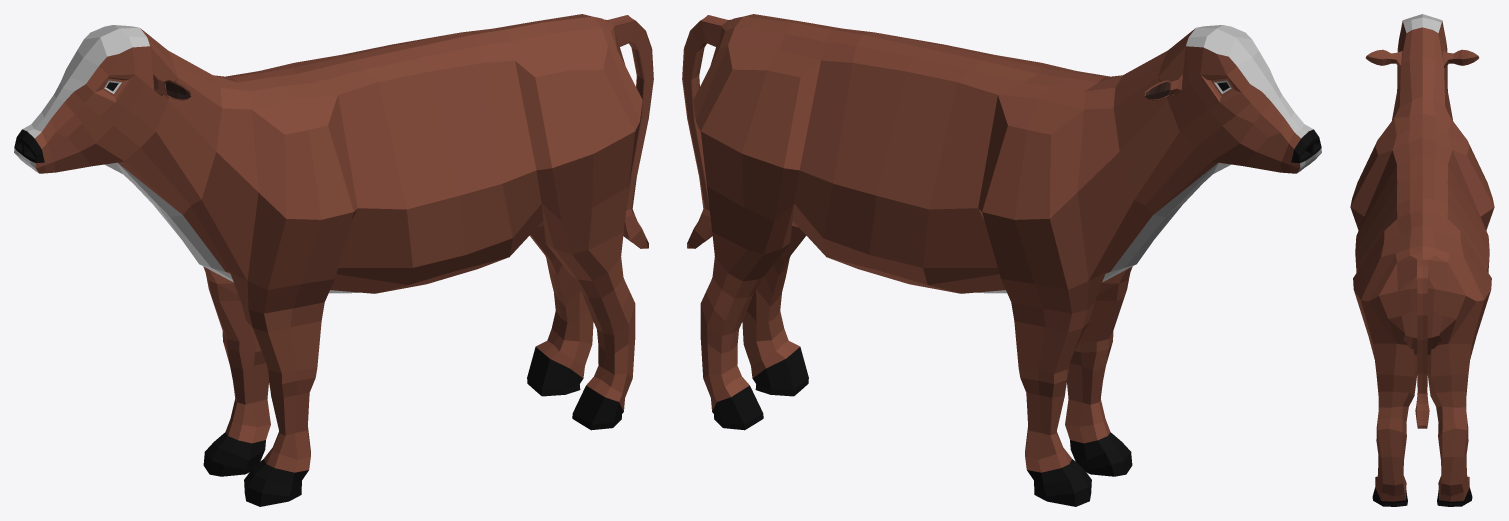
File: Cow.gltf
3 renders of one model, left to right at view 1: azimuth 30°, elevation 25°; view 2: azimuth 150°, elevation 25°; view 3: azimuth 270°, elevation 25°, orthographic. The views are drawn at different scales.
Visible parts, largest first — view 1: Cube; view 2: Cube; view 3: Cube.
Boxes of the visible parts, x1=… form: Cube: x1=14, y1=14, x2=653, y2=506; Cube: x1=682, y1=14, x2=1321, y2=506; Cube: x1=1350, y1=14, x2=1494, y2=506.
Bounding box in the file's own units: 4.27 × 3.16 × 1.24.
